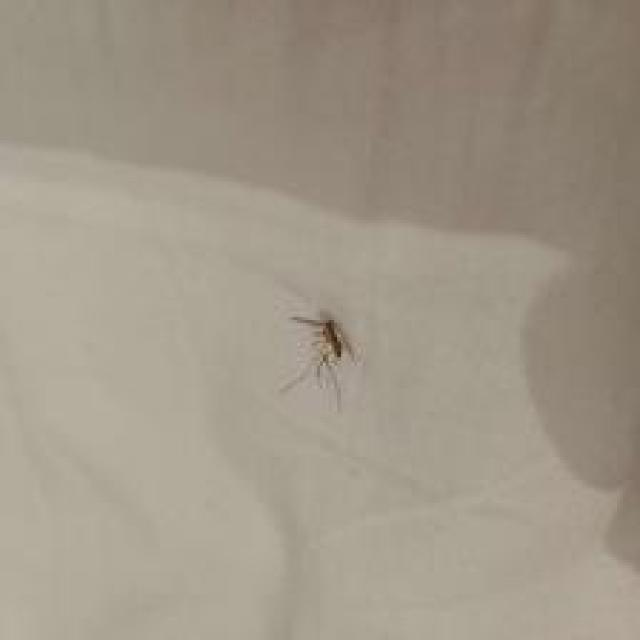Culex: (278, 312, 358, 412)
